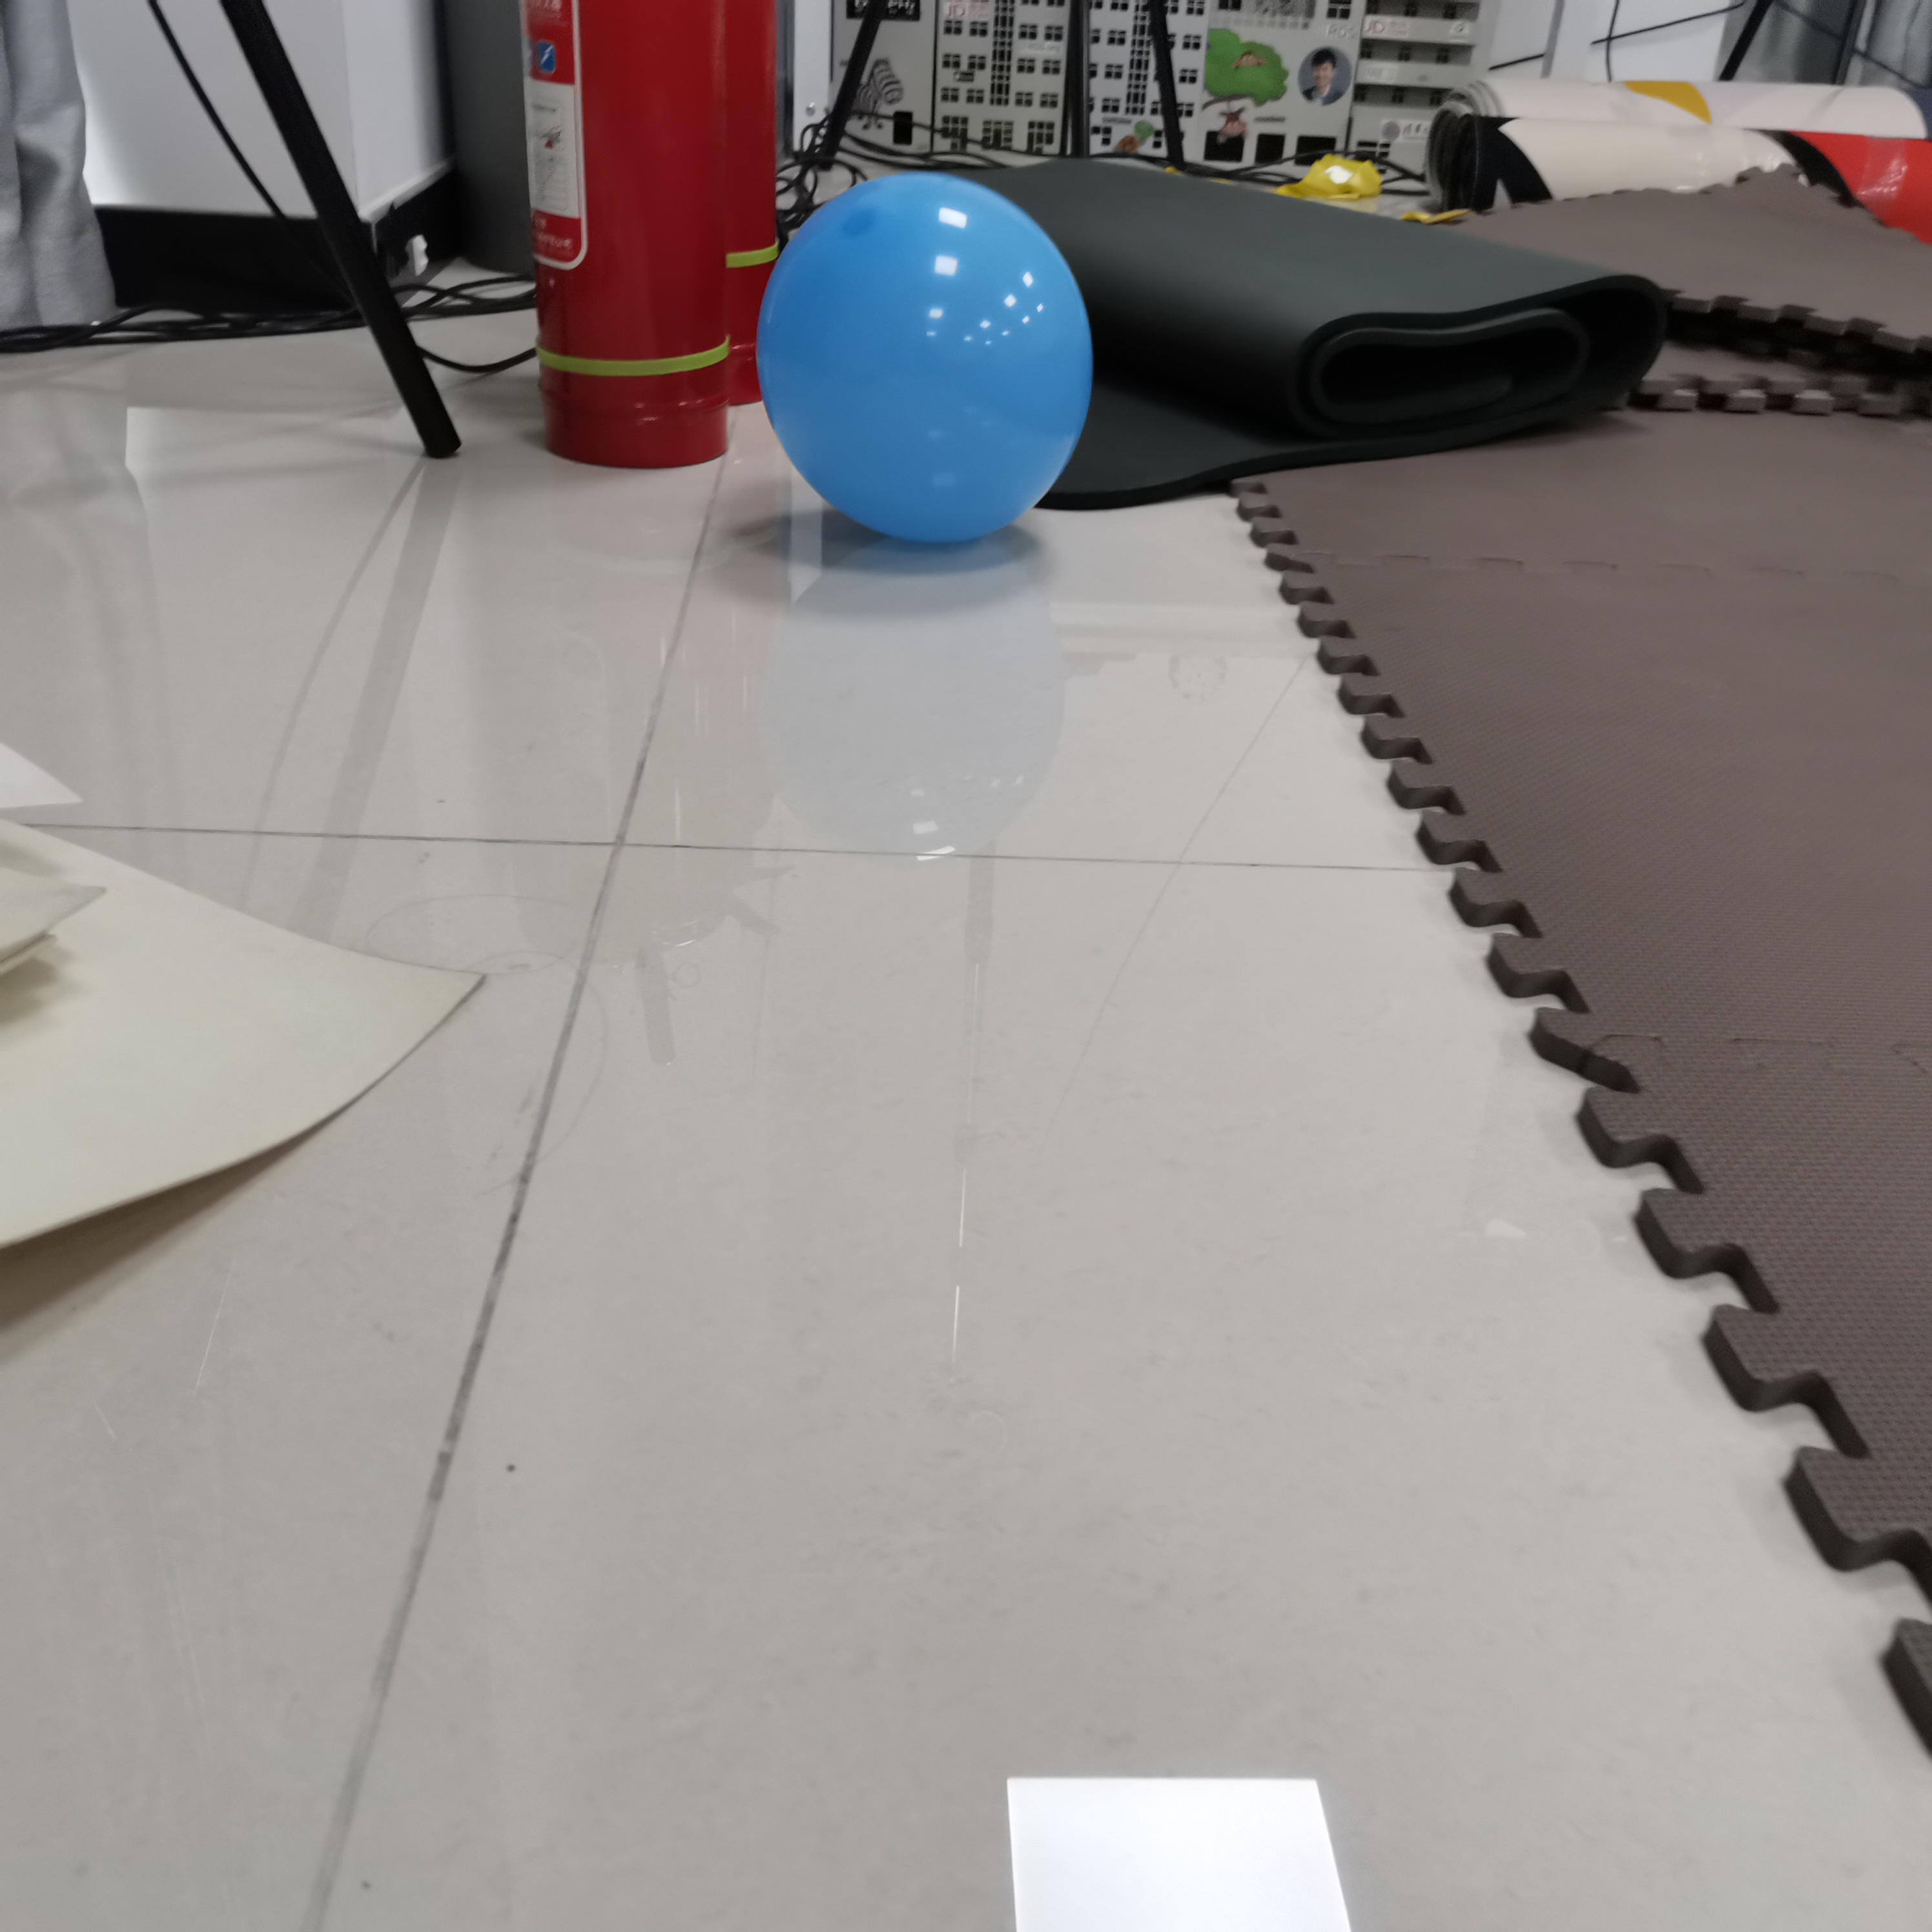balloon: (757, 173, 1097, 541)
